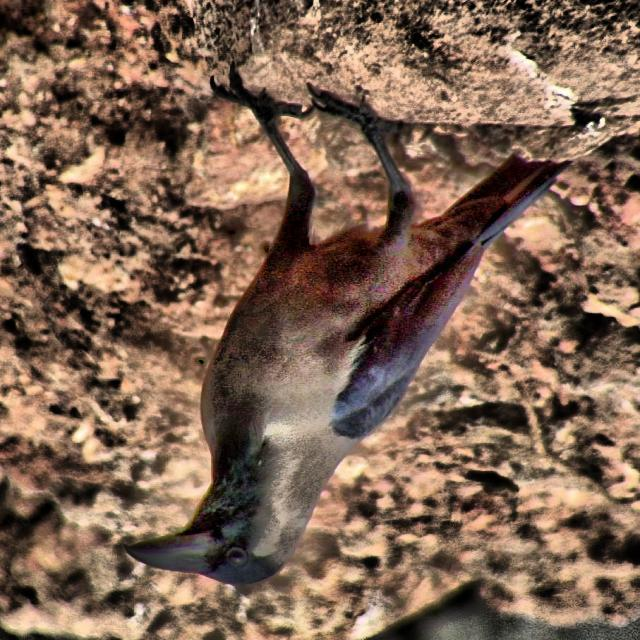crow: (113, 52, 577, 627)
